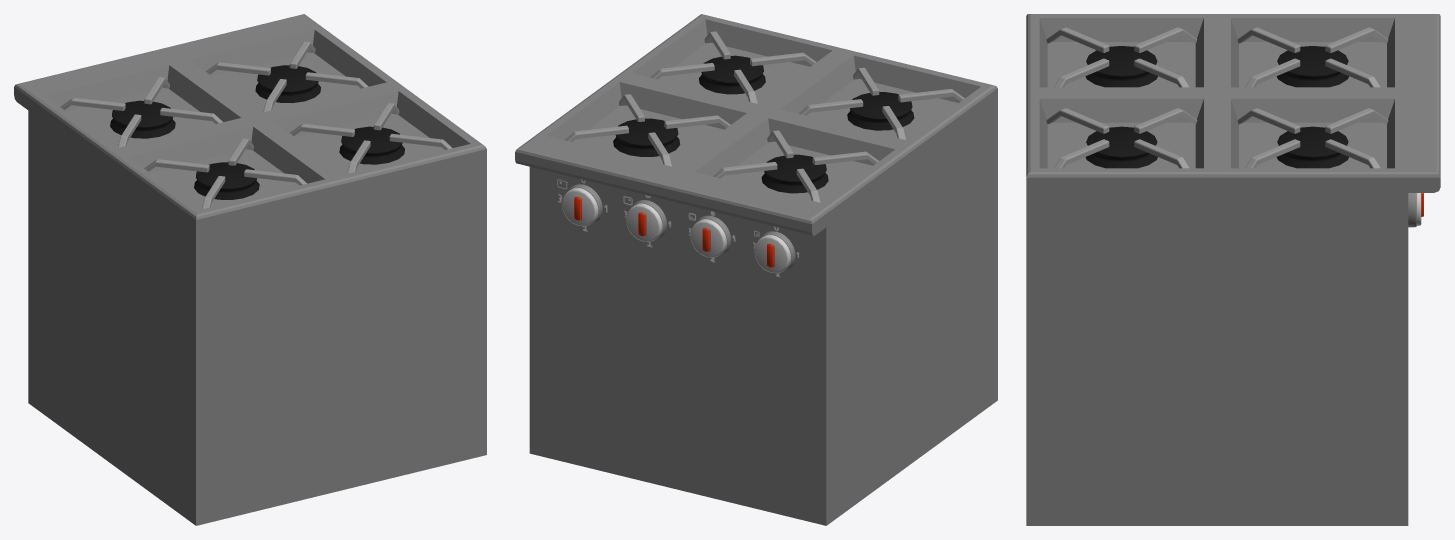
The model's file is grilltop.fbx.
3 renders of one model, left to right at view 1: azimuth 30°, elevation 25°; view 2: azimuth 150°, elevation 25°; view 3: azimuth 270°, elevation 25°, orthographic. The views are drawn at different scales.
Visible parts, largest first — view 1: Cube.001; view 2: Cube.001, Circle.003, Circle.001, Circle.002, Circle.004; view 3: Cube.001.
Boxes of the visible parts, x1,y1,x2,y2 form: Cube.001: [14, 14, 486, 525]; Cube.001: [515, 14, 997, 525]; Circle.003: [690, 219, 726, 257]; Circle.001: [561, 187, 598, 226]; Circle.002: [626, 203, 662, 241]; Circle.004: [754, 234, 791, 273]; Cube.001: [1026, 14, 1440, 525].
Bounding box in the file's own units: 200 × 203 × 217.
